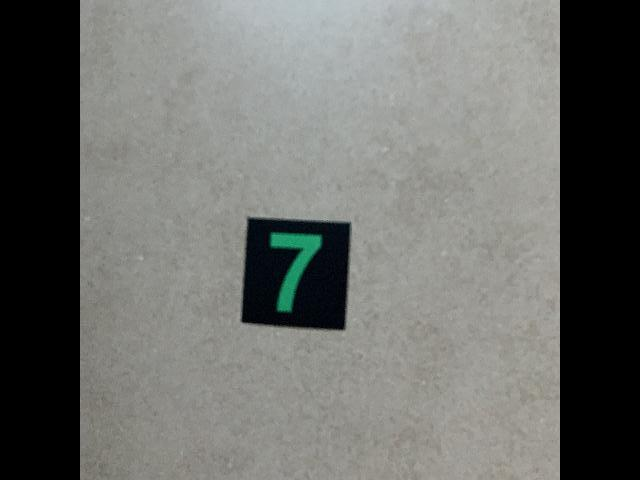seven: (239, 216, 353, 333)
